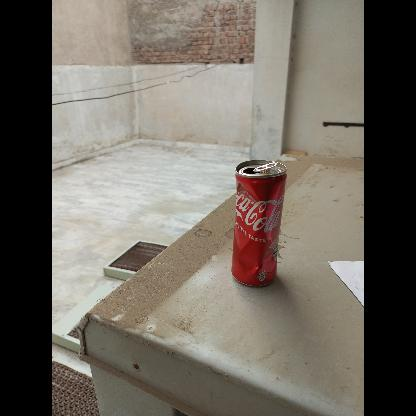Dent_Can: (237, 179, 281, 280), (236, 182, 244, 200)
Lid_Open: (243, 160, 277, 176)
Tin_Can: (228, 159, 288, 291)
